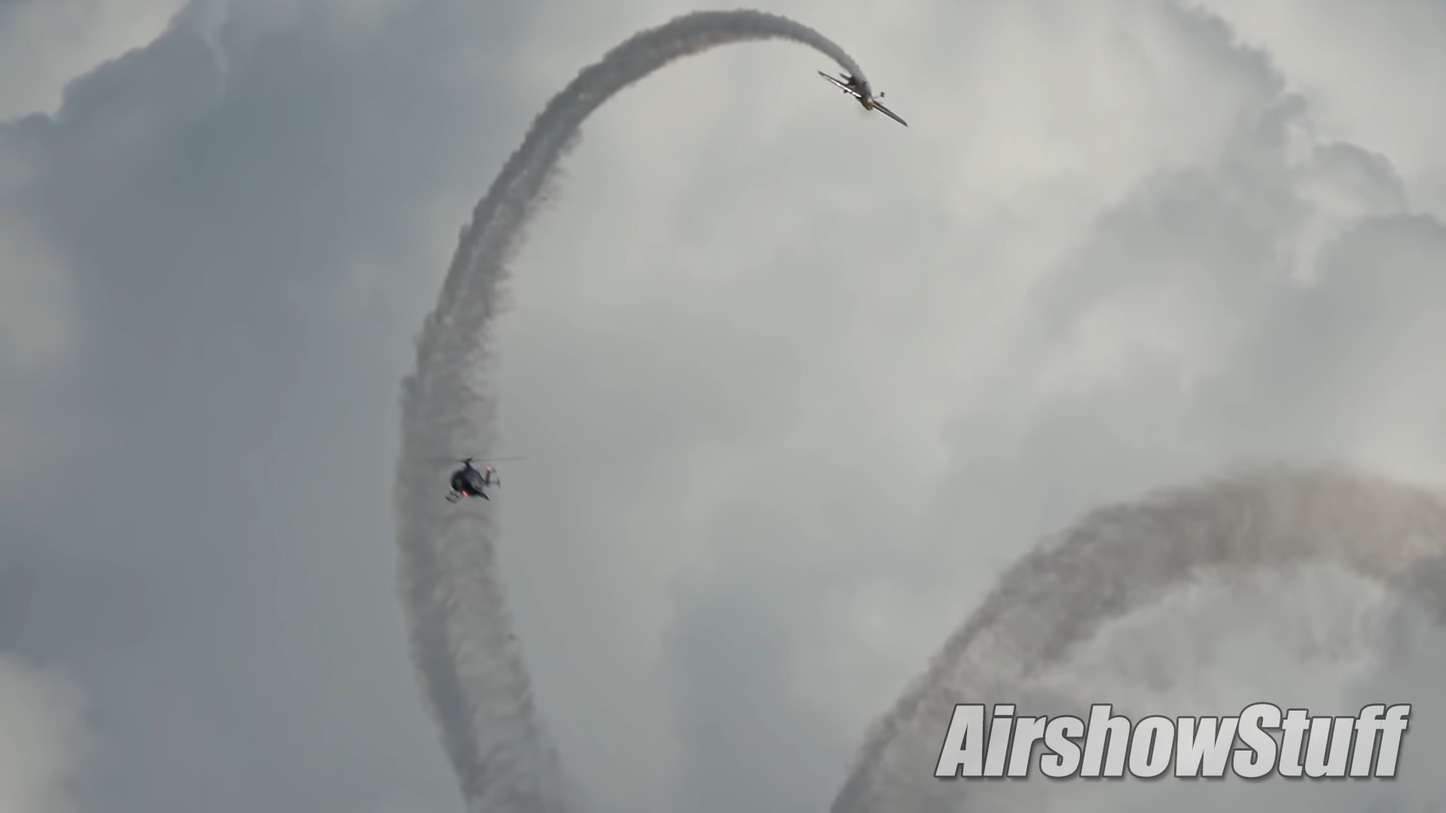not_drone: (816, 64, 921, 134), (428, 452, 516, 508)
